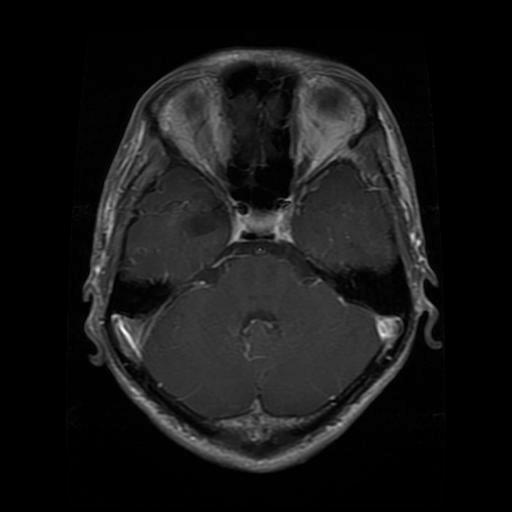Tumour-Glioma: (227, 299, 298, 364)
